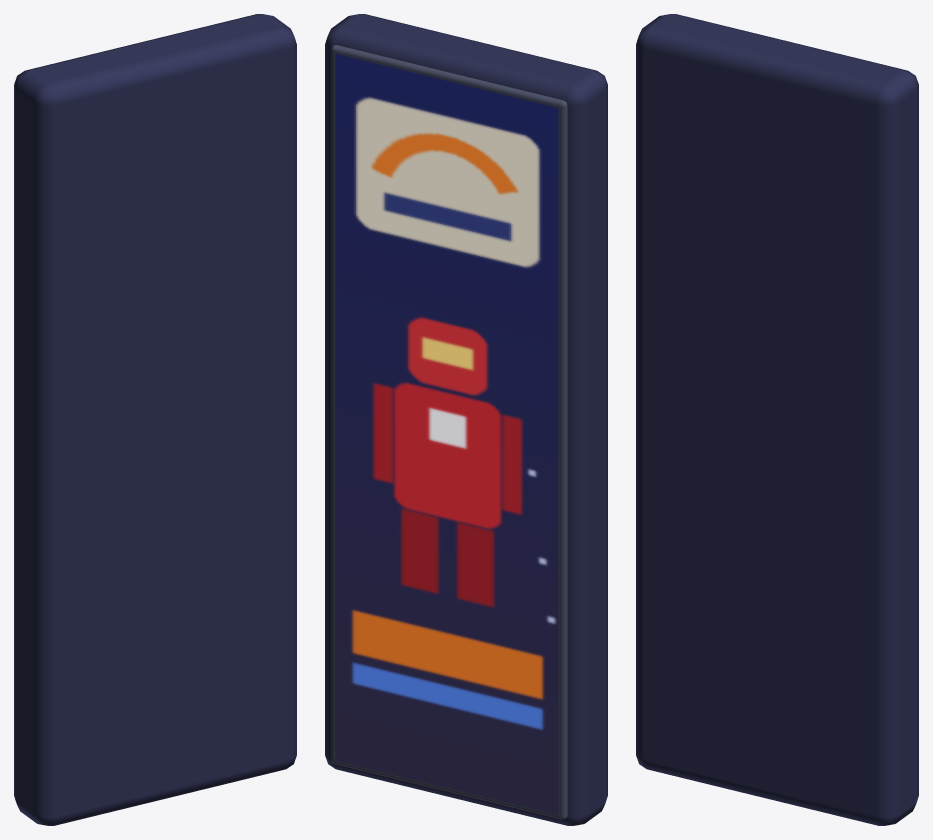
The model's file is prop.props_walls.walls_hall_post.glb.
3 renders of one model, left to right at view 1: azimuth 30°, elevation 25°; view 2: azimuth 150°, elevation 25°; view 3: azimuth 330°, elevation 25°, orthographic.
Parts seen in each view (by area): view 1: prop.props_walls.walls_hall_post; view 2: prop.props_walls.walls_hall_post; view 3: prop.props_walls.walls_hall_post.
Part boxes in pixels (x1,y1,x2,y2): prop.props_walls.walls_hall_post: (14,14,296,825); prop.props_walls.walls_hall_post: (325,14,607,825); prop.props_walls.walls_hall_post: (636,14,918,825).
Size of the model in its own units: 0.24 by 0.6495 by 0.0585.
3 materials, 1 textured.
